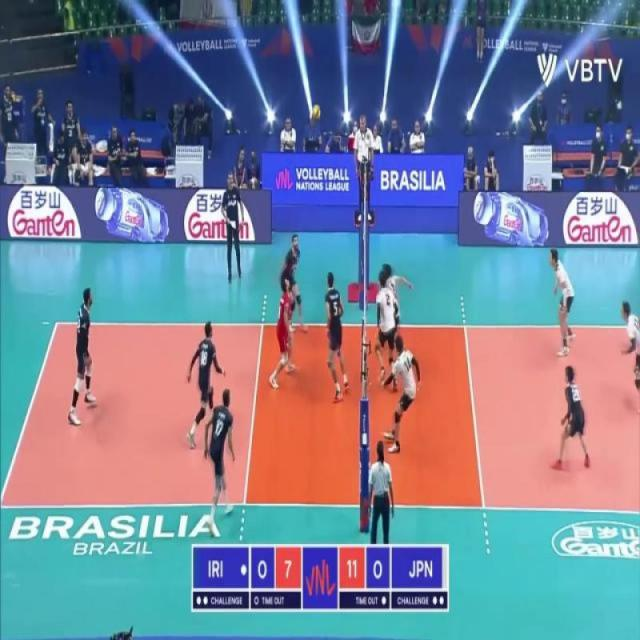volleyball: (312, 104, 320, 121)
